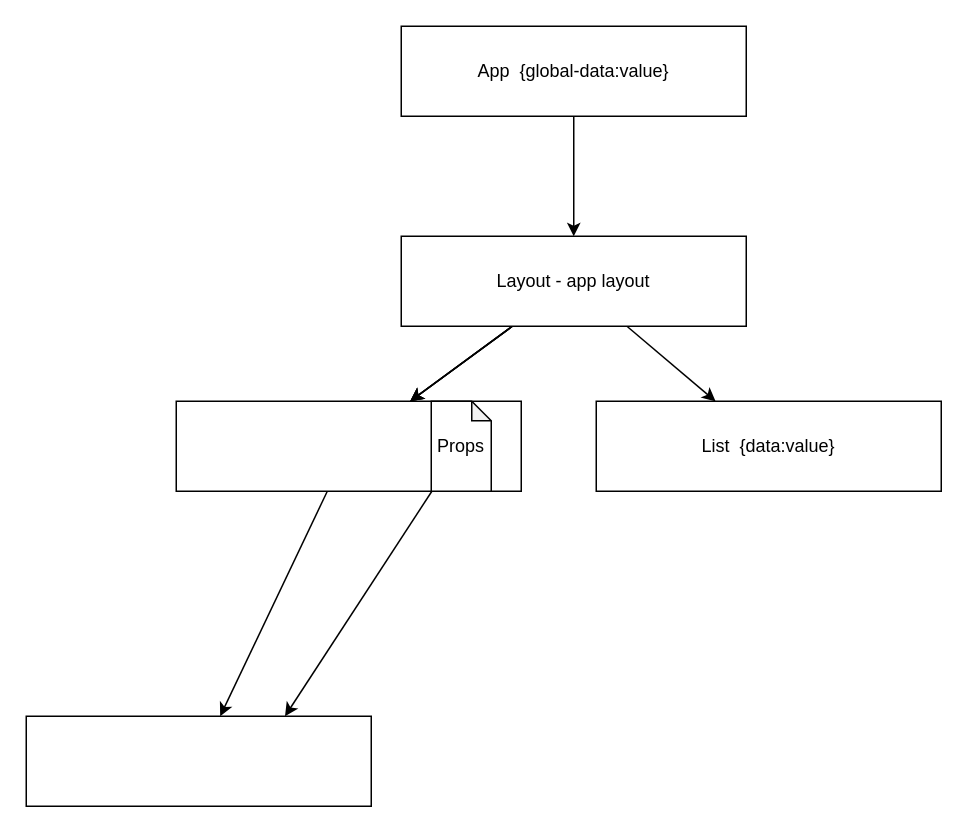
This 968x833 diagram has some shape labels left out. Here are the shapes that lost their labels. From the top down, the box of each, then its label:
(175, 400, 521, 491): Navbar {data:value}
(25, 715, 371, 806): NavLink {data:value}
